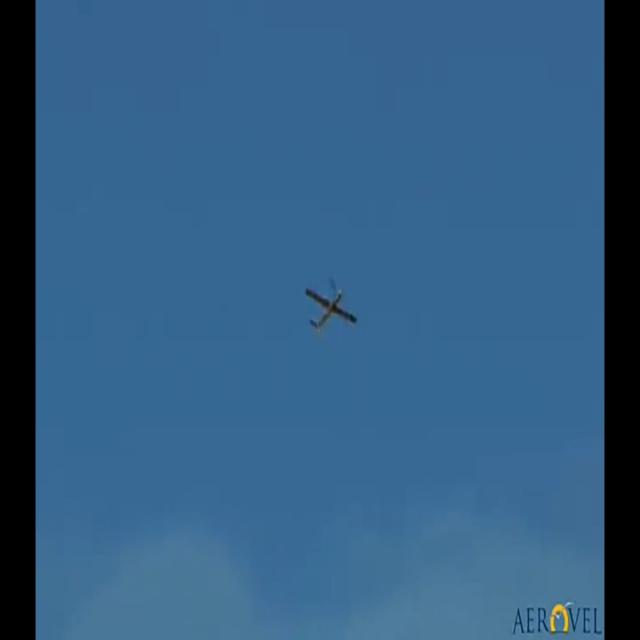iha: (299, 275, 351, 335)
